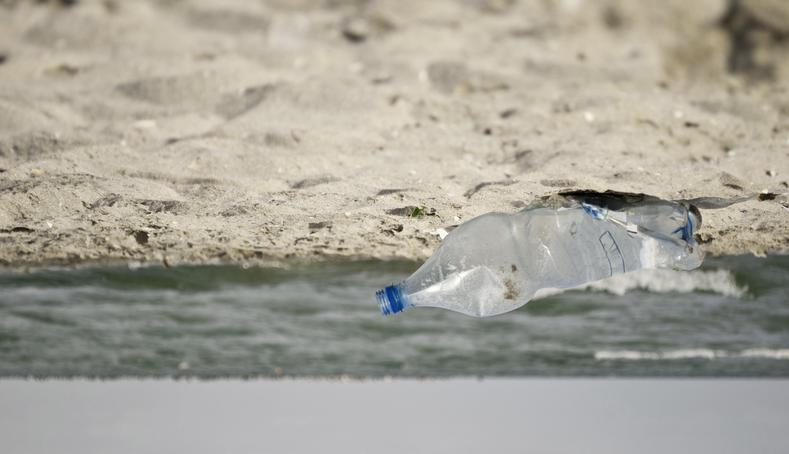Plastic: (368, 172, 710, 321)
